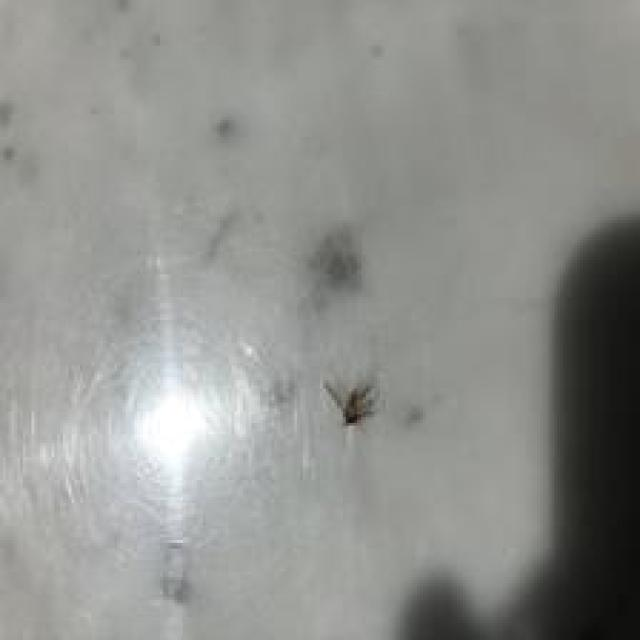Culex: (322, 377, 378, 429)
